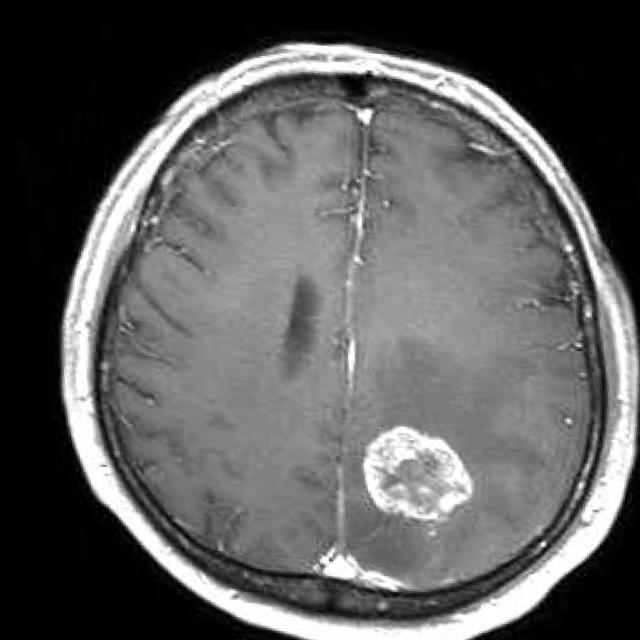Tumor: (354, 423, 465, 511)
